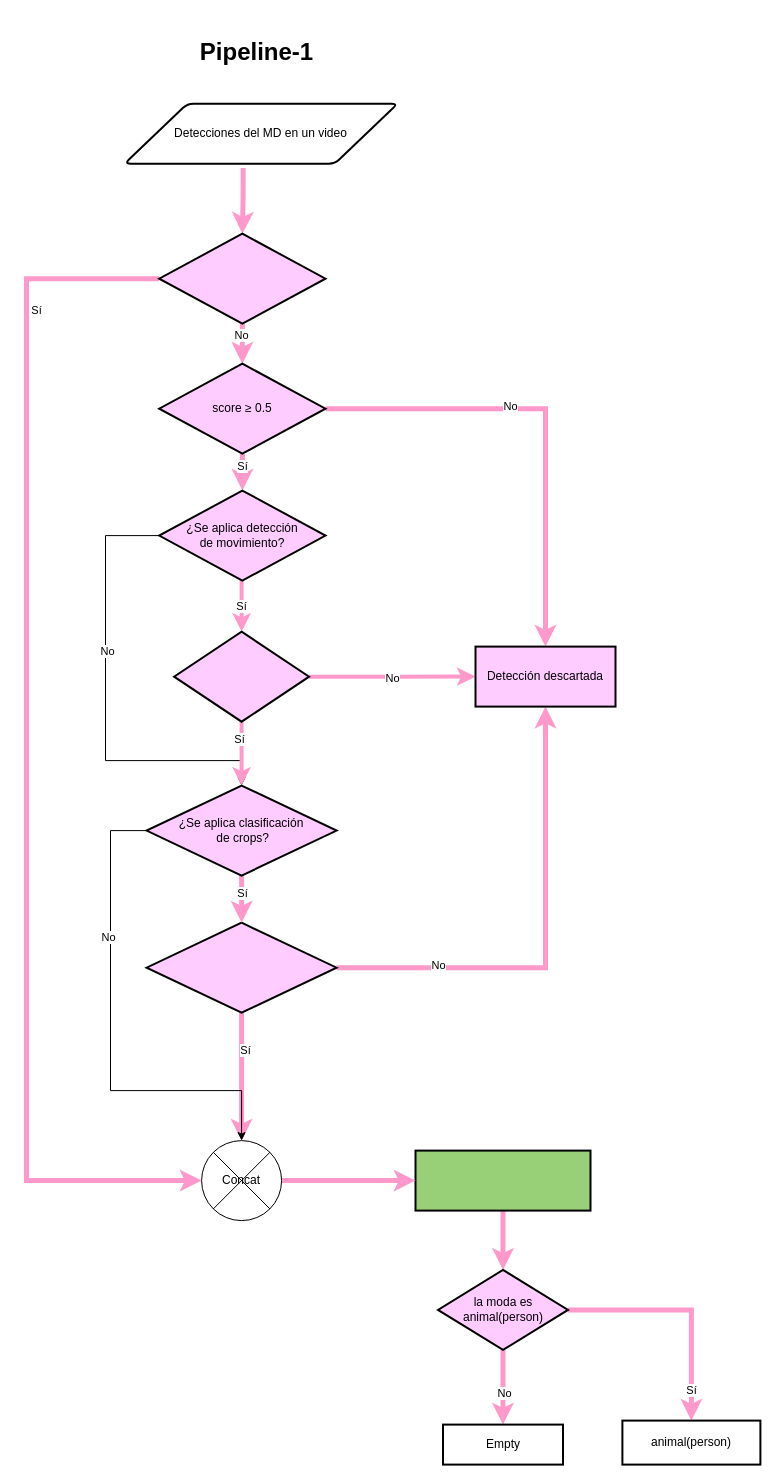
Some shapes in this 779 by 1483 pixel diagram are drawn without their labels. Here are the shapes that lost their labels. From the top down, the box of each, then its label:
(158, 232, 326, 324): score ≥ 0.95
(173, 630, 310, 722): ¿Detectó movimiento?
(145, 921, 337, 1013): Probabilidad de etiqueta animal > 0.5
(414, 1149, 591, 1211): animal(person)_preds_mode
